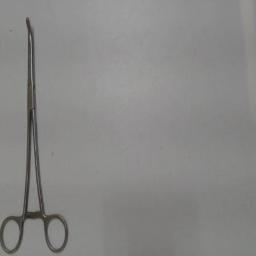Lahey Forceps: (0, 13, 72, 255)
